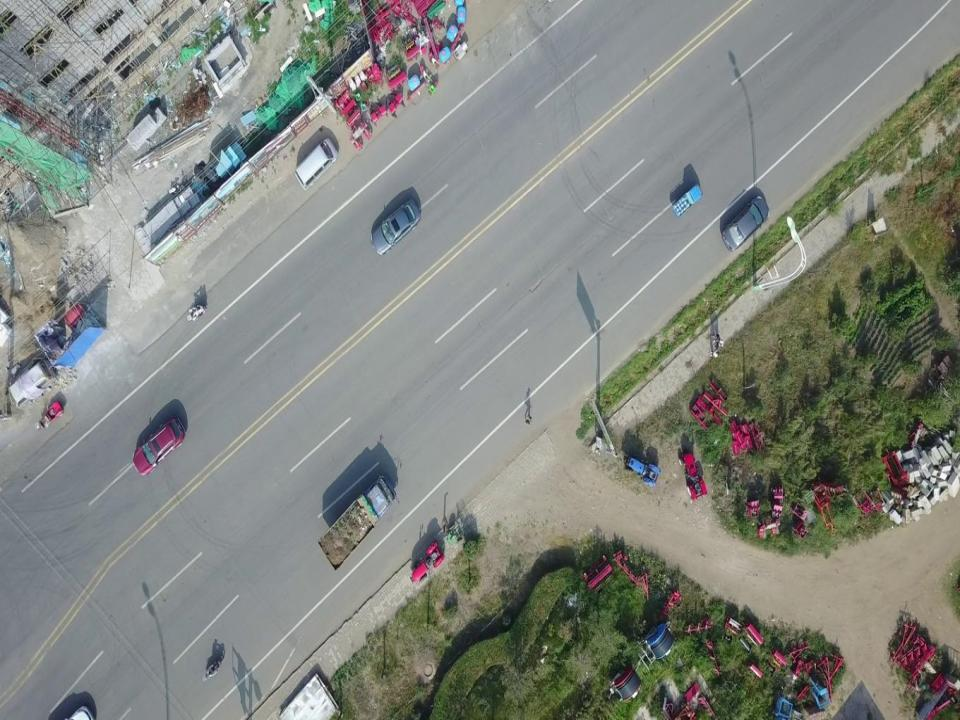car: (124, 414, 204, 476), (369, 184, 432, 257), (722, 188, 777, 252), (296, 139, 345, 191)
truck: (314, 472, 400, 575), (674, 184, 702, 219)
